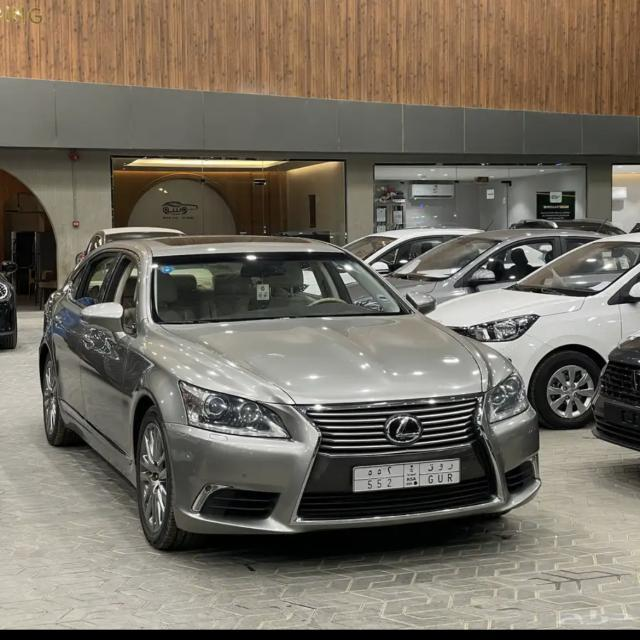license_plate: (351, 459, 462, 491)
